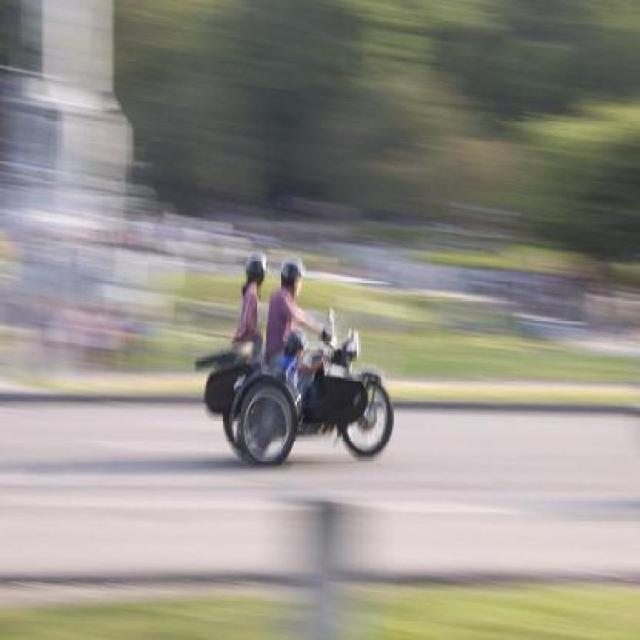Person: (264, 252, 331, 368), (279, 330, 326, 412), (232, 252, 266, 361)
